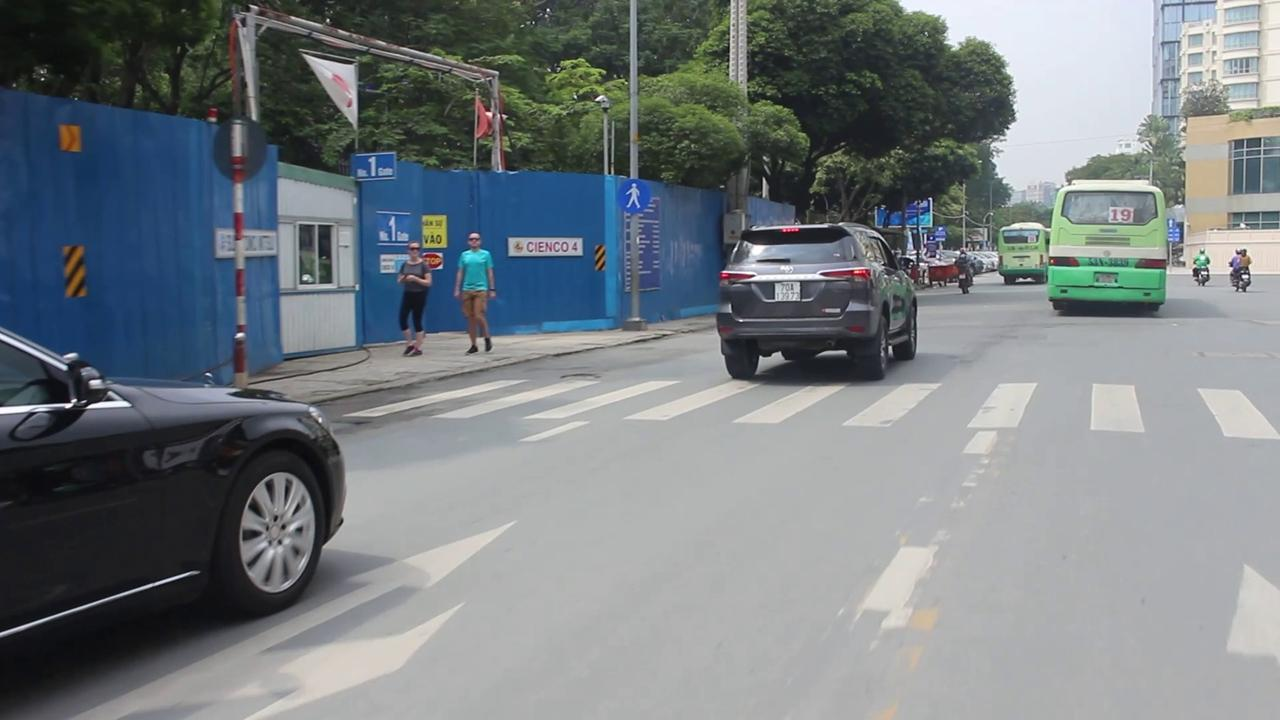P.123a: (618, 179, 650, 212)
